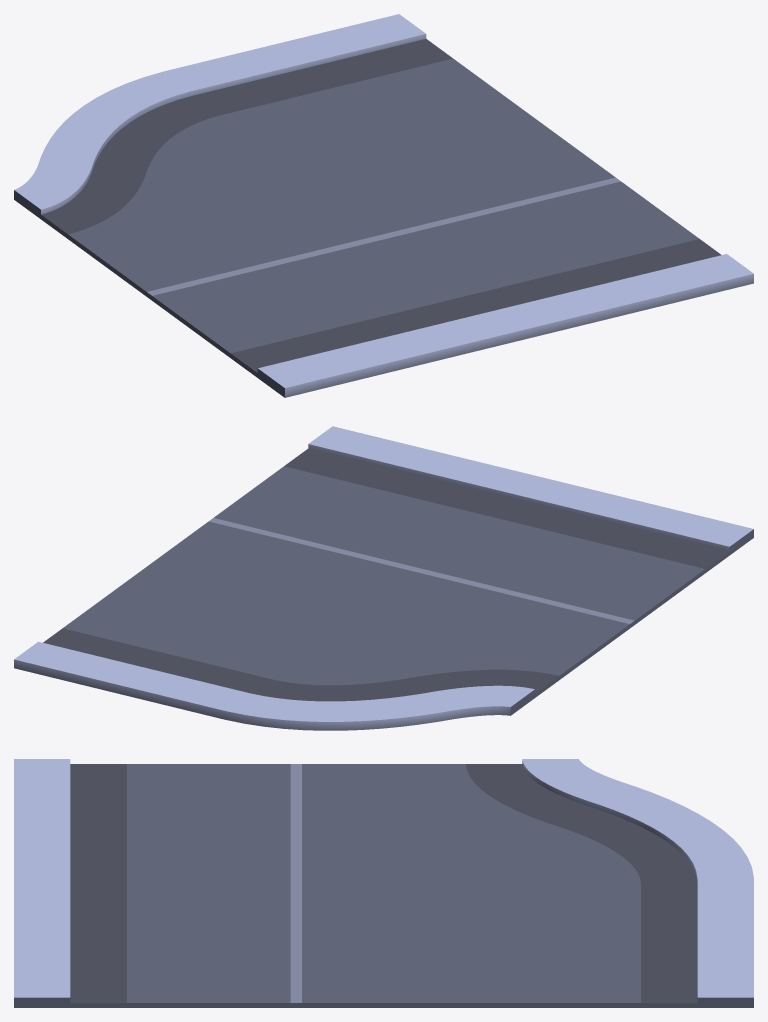
Rendered from road-side-exit.glb.
3 renders of one model, top to bottom at view 1: azimuth 30°, elevation 25°; view 2: azimuth 150°, elevation 25°; view 3: azimuth 270°, elevation 25°, orthographic. The views are drawn at different scales.
Parts seen in each view (by area): view 1: road-side-exit; view 2: road-side-exit; view 3: road-side-exit.
Boxes of the visible parts, bbox=[...] form: road-side-exit: bbox=[14, 14, 753, 397]; road-side-exit: bbox=[14, 426, 753, 730]; road-side-exit: bbox=[14, 759, 753, 1007].
Size of the model in its own units: 1 by 0.02 by 1.31.
Materials: 1 (1 with a texture image).
